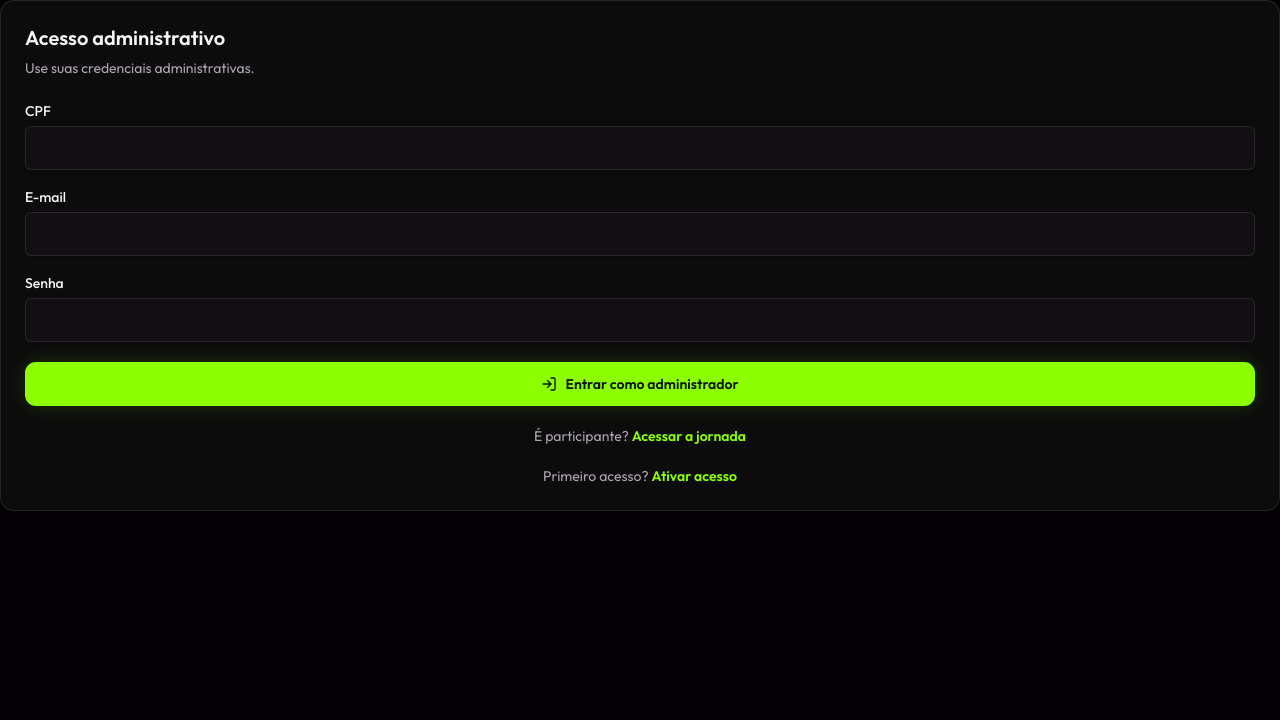
Test: AdminLoginForm › preserva o mínimo administrativo de 12 caracteres
The width and height of the screenshot is (1280, 720).
Type "12345678900" into the field labelled "CPF".
click(640, 148); type("12345678900")  # box [25, 126, 1255, 170]
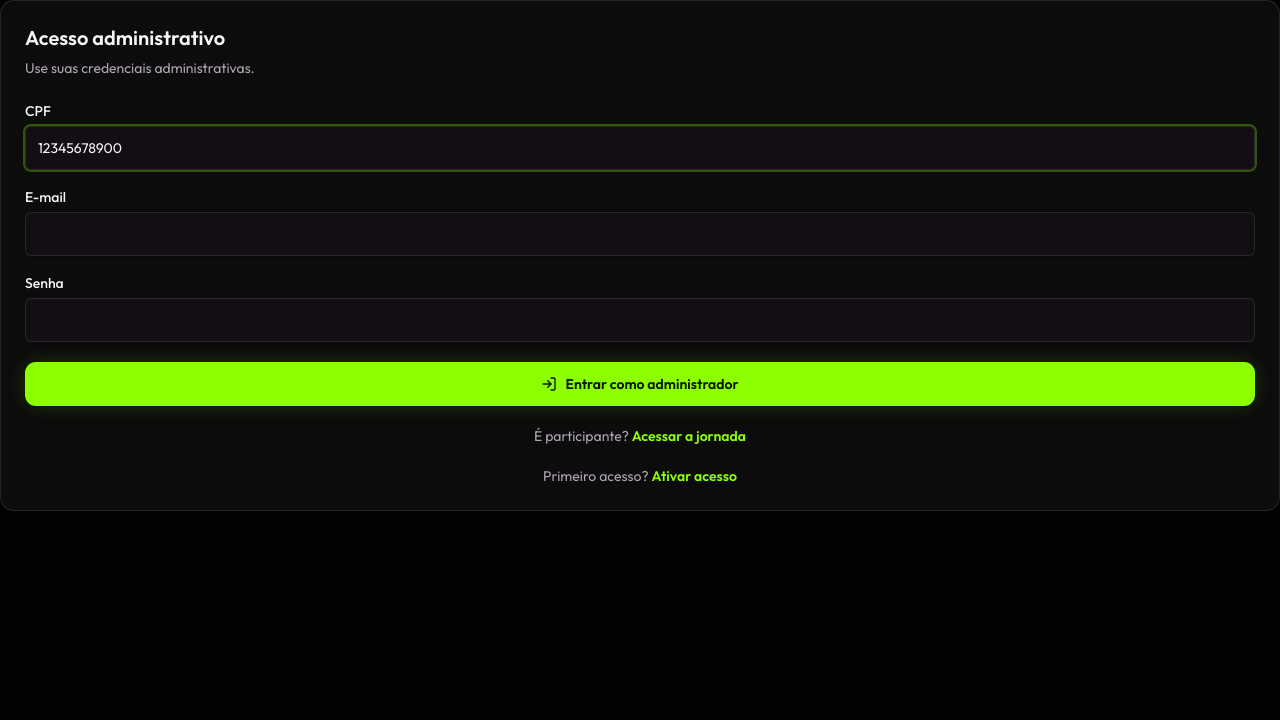
Type "admin@example.com" into the field labelled "E-mail".
click(640, 234); type("admin@example.com")  # box [25, 212, 1255, 256]
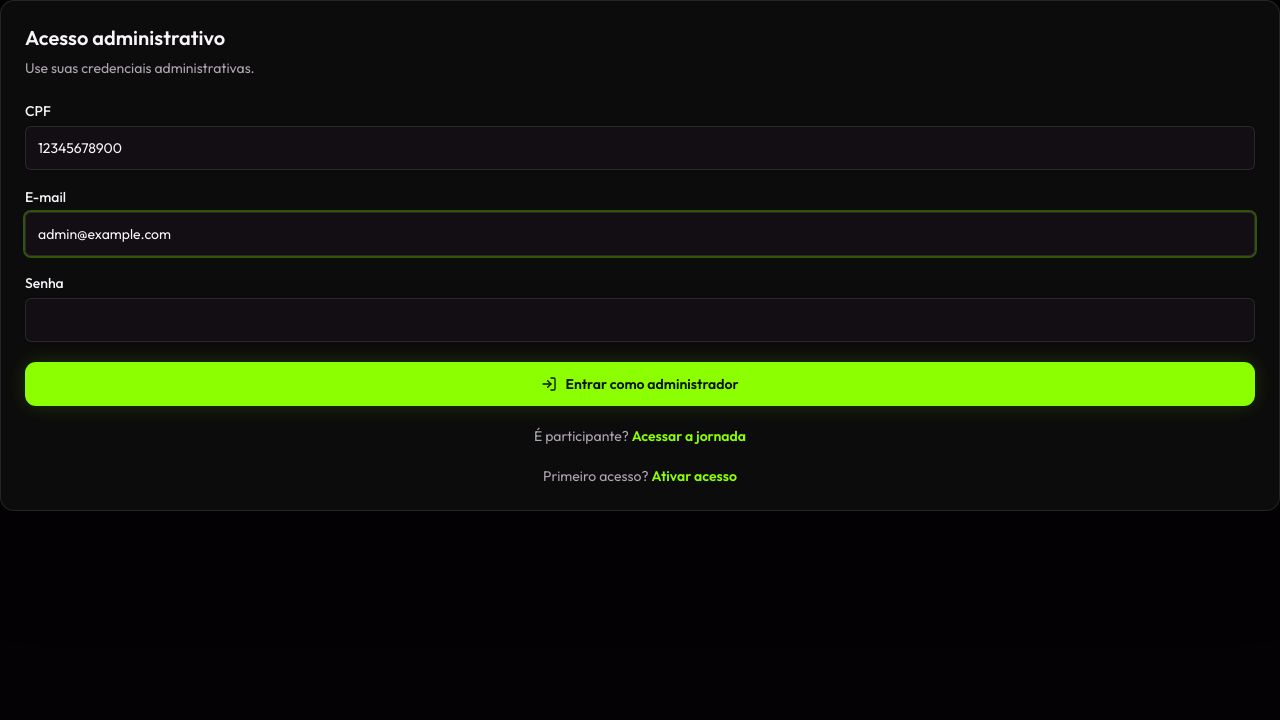
Type "12345678901" into the password field labelled "Senha".
click(640, 320); type("12345678901")  # box [25, 298, 1255, 342]
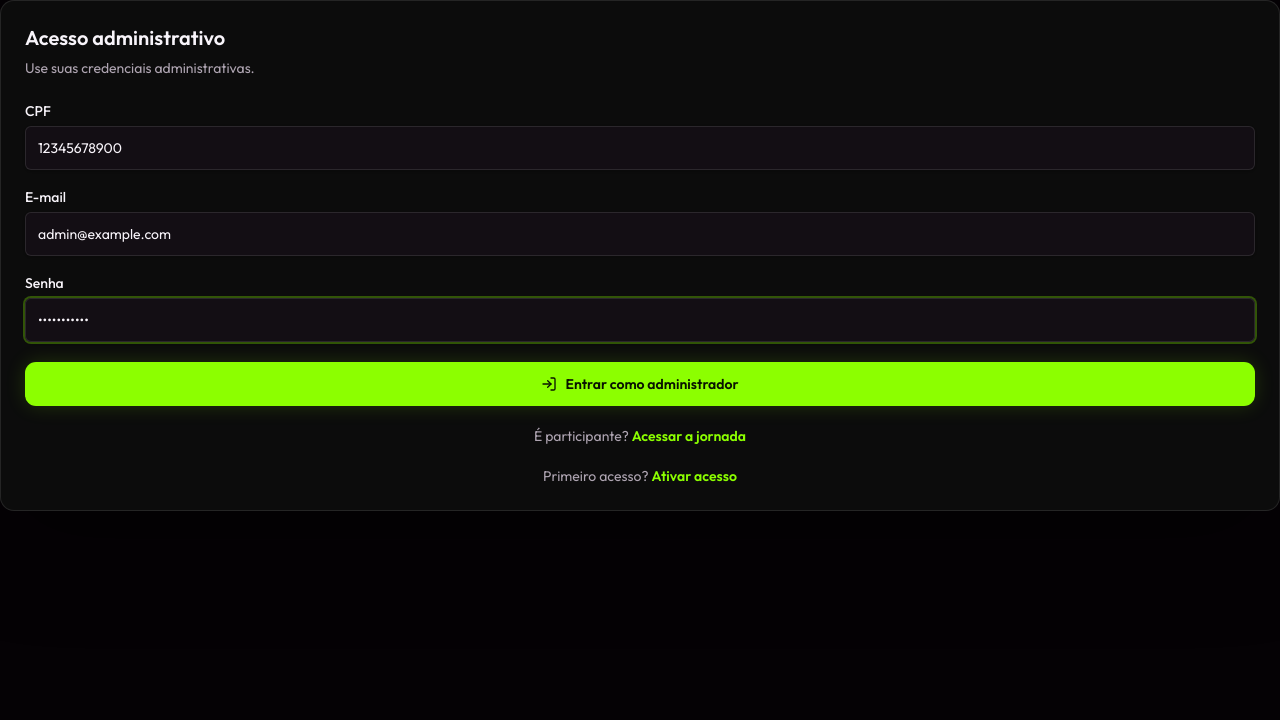
Click the button "Entrar como administrador".
click(640, 384)  # box [25, 362, 1255, 406]
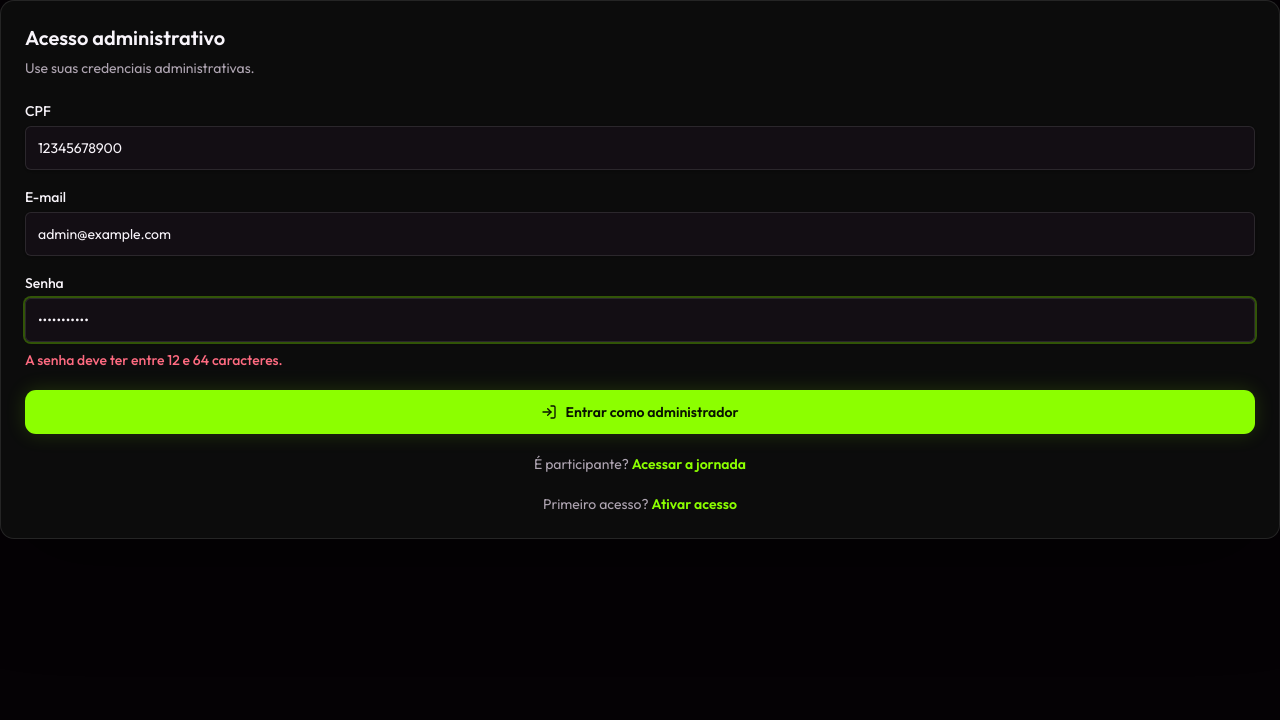
Now the message shows "12 e 64 caracteres", box [25, 351, 283, 369]
